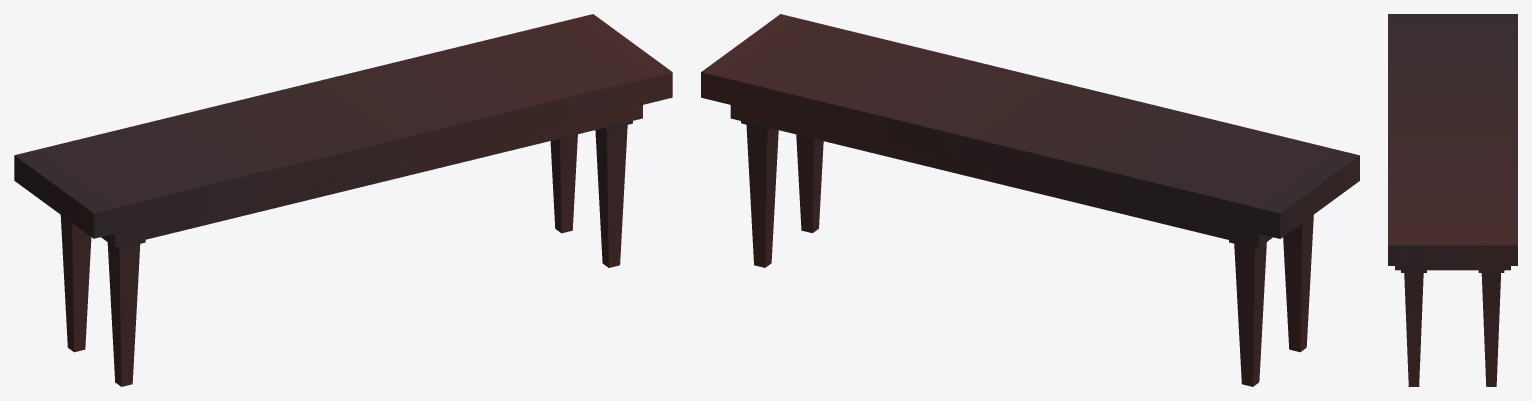
Rendered from mesa_adorno_livingcontextura.fbx.
The picture shows the model from 3 angles, left to right: view 1: azimuth 30°, elevation 25°; view 2: azimuth 150°, elevation 25°; view 3: azimuth 270°, elevation 25°; orthographic projection. The views are drawn at different scales.
Visible parts, largest first — view 1: pCube6; view 2: pCube6; view 3: pCube6.
Part boxes in pixels (bbox=[...]): pCube6: bbox=[14, 14, 672, 386]; pCube6: bbox=[701, 14, 1359, 386]; pCube6: bbox=[1388, 14, 1517, 386].
Bounding box in the file's own units: 23.12 × 7.36 × 5.49.
Materials: 1 (1 with a texture image).
